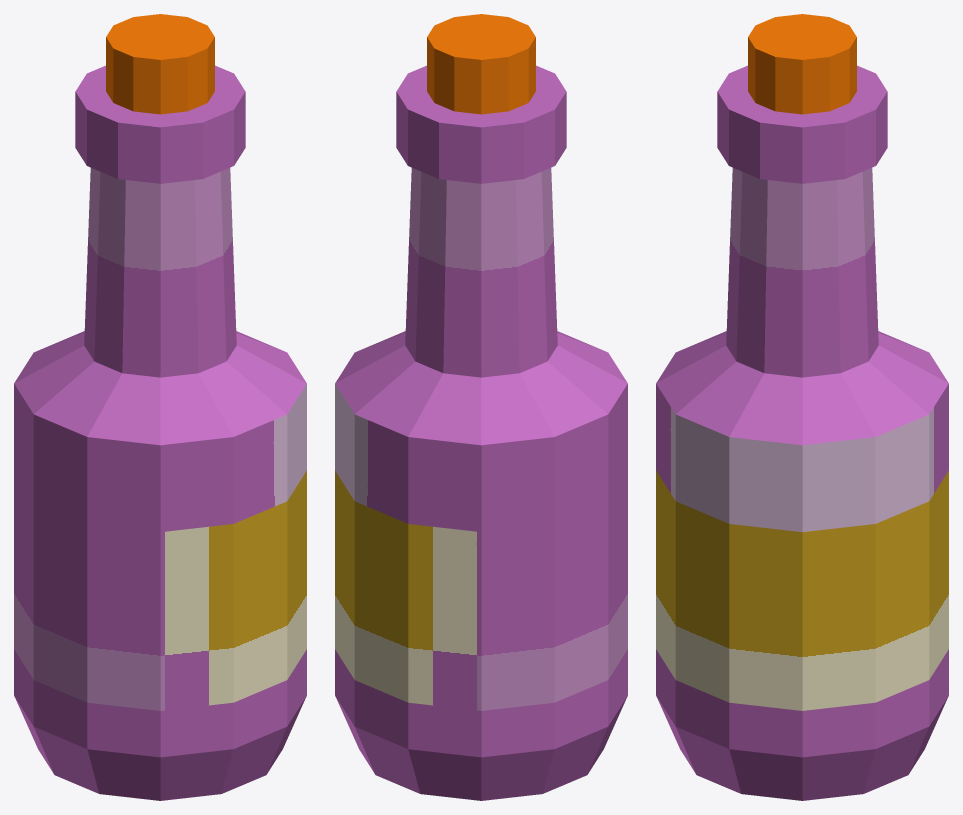
File: bottle_616x12.gltf
3 views of the same model, side by side, from view 1: azimuth 30°, elevation 25°; view 2: azimuth 150°, elevation 25°; view 3: azimuth 270°, elevation 25° (orthographic).
Visible parts, largest first — view 1: bottle_616x12; view 2: bottle_616x12; view 3: bottle_616x12.
Part boxes in pixels (box(x1,y1,x2,y2)): bottle_616x12: box(14, 14, 306, 800); bottle_616x12: box(335, 14, 627, 800); bottle_616x12: box(656, 14, 948, 800).
Bounding box in the file's own units: 0.409 × 1.1 × 0.409.
Materials: 1 (1 with a texture image).
